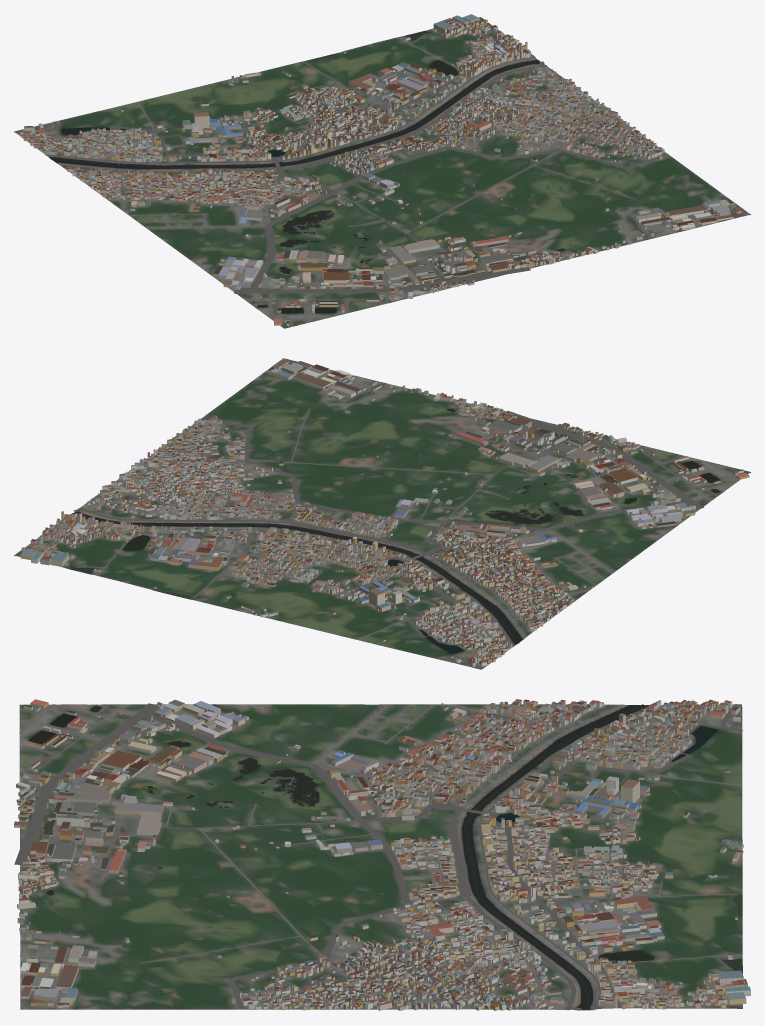
3 views of the same model, one above another, from view 1: azimuth 30°, elevation 25°; view 2: azimuth 150°, elevation 25°; view 3: azimuth 270°, elevation 25° (orthographic). The views are drawn at different scales.
Parts seen in each view (by area): view 1: ground, buildings, roads, water; view 2: ground, buildings, roads, water; view 3: ground, buildings, roads, water.
Boxes of the visible parts, x1,y1,x2,y2 form: ground: [14, 17, 750, 328]; buildings: [20, 14, 741, 325]; roads: [15, 27, 746, 326]; water: [49, 30, 564, 313]; ground: [14, 358, 750, 669]; buildings: [20, 360, 749, 666]; roads: [37, 359, 744, 668]; water: [69, 408, 720, 654]; ground: [19, 704, 742, 1010]; buildings: [14, 699, 750, 1010]; roads: [14, 703, 742, 1010]; water: [28, 704, 742, 1010].
Size of the model in its own units: 1419 by 39.23 by 1430.
